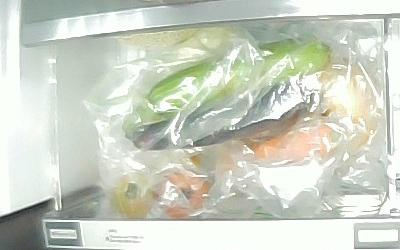carrot_vinyl: (222, 115, 333, 165)
eggplant_vinyl: (135, 74, 326, 152)
pear_vinyl: (323, 68, 377, 155)
tomato_vinyl: (159, 169, 216, 221), (109, 171, 157, 220)
zucchini_vinyl: (129, 39, 346, 126)
